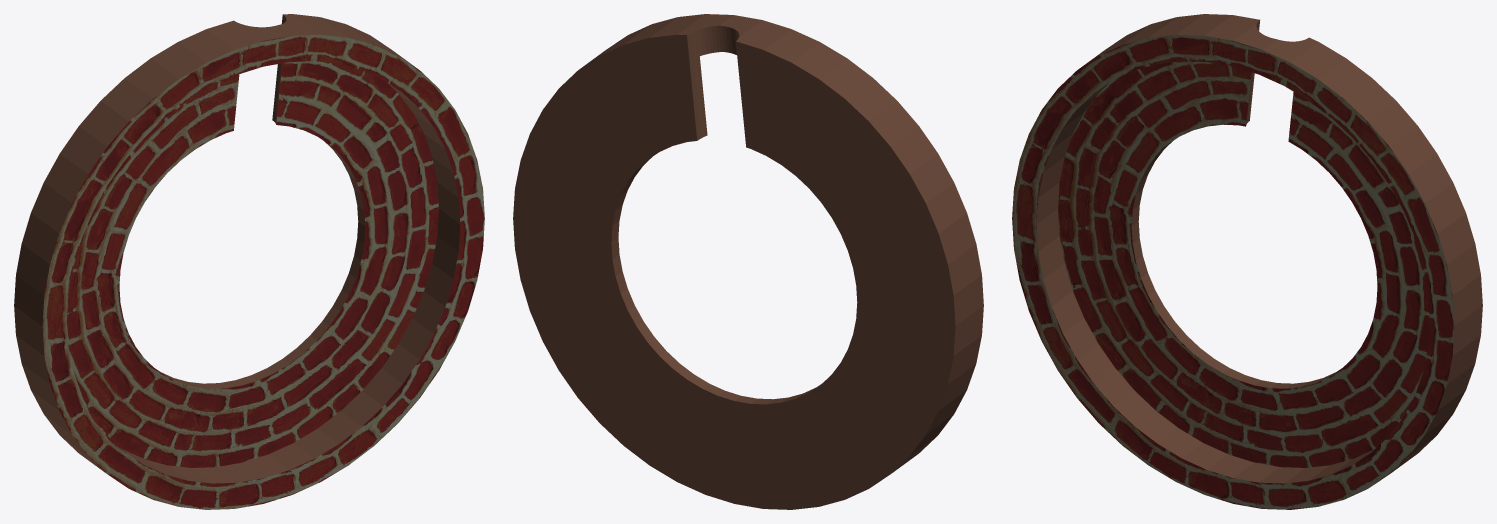
The model's file is pool_064.obj.
3 views of the same model, side by side, from view 1: azimuth 30°, elevation 25°; view 2: azimuth 150°, elevation 25°; view 3: azimuth 330°, elevation 25° (orthographic).
Size of the model in its own units: 18 by 18 by 2.
